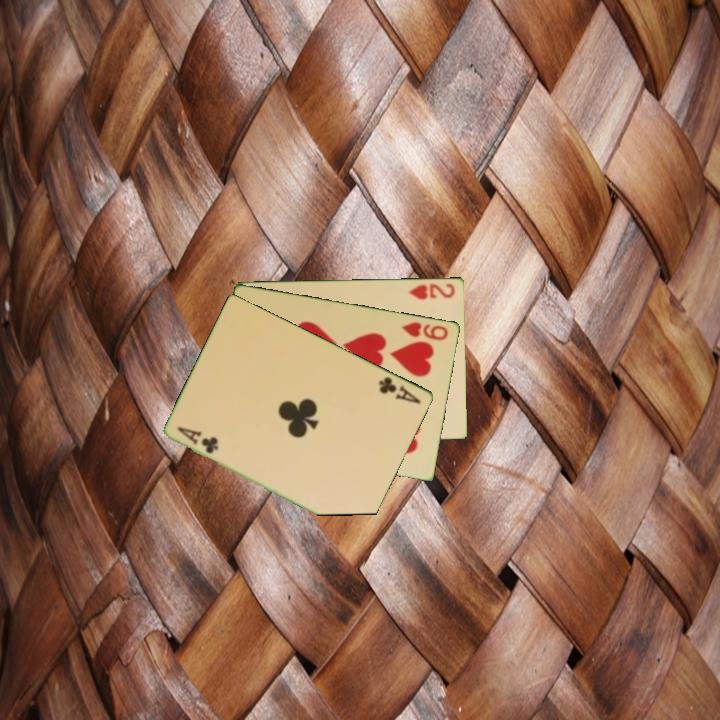2h: (405, 280, 458, 302)
9h: (398, 318, 451, 343)
Ac: (174, 423, 222, 457), (375, 373, 424, 406)
